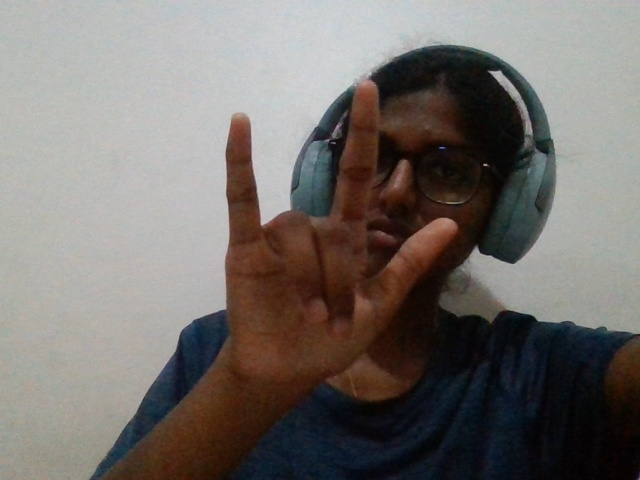I Love You: (193, 73, 465, 425)
